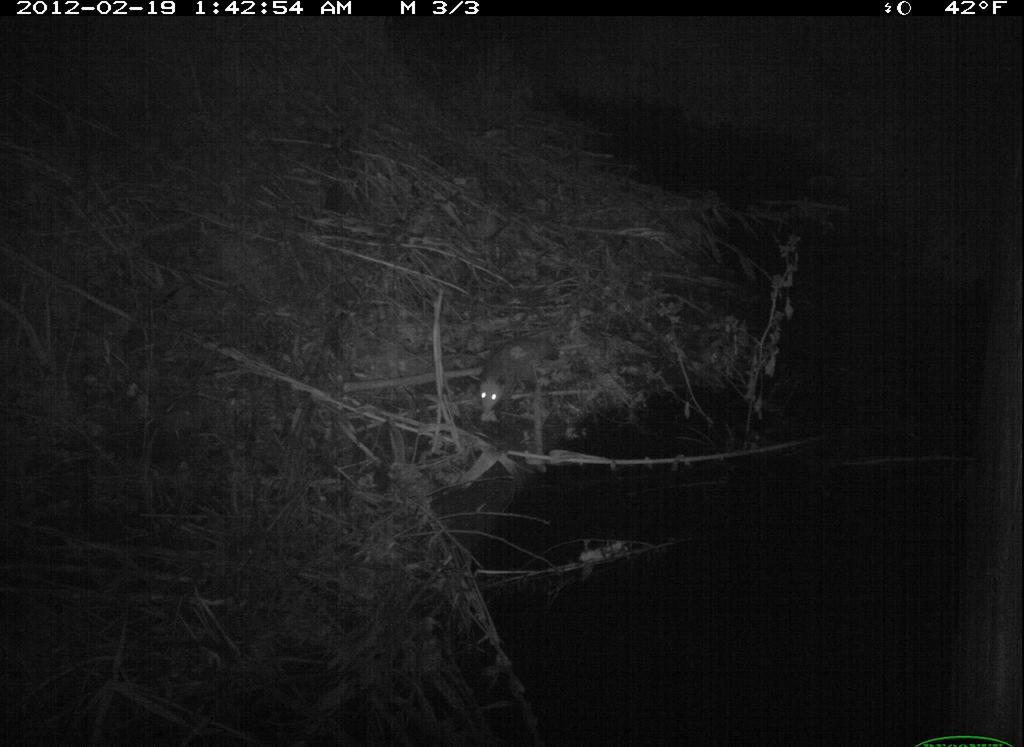opossum: (455, 322, 569, 445)
